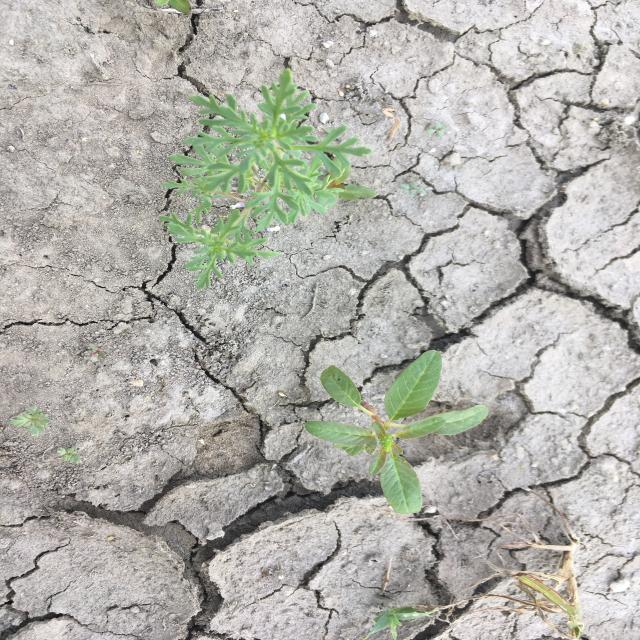Ragweed: (154, 68, 374, 292), (8, 404, 54, 438)
Waterhemp: (303, 349, 491, 516)
